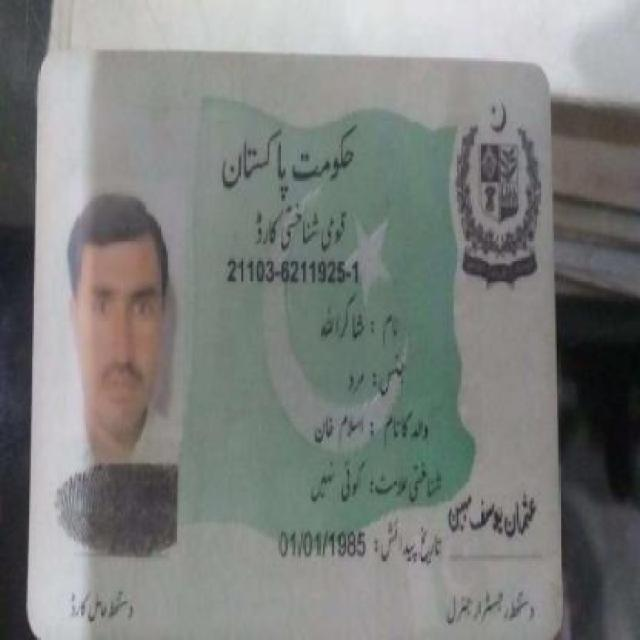Front: (24, 27, 570, 636)
